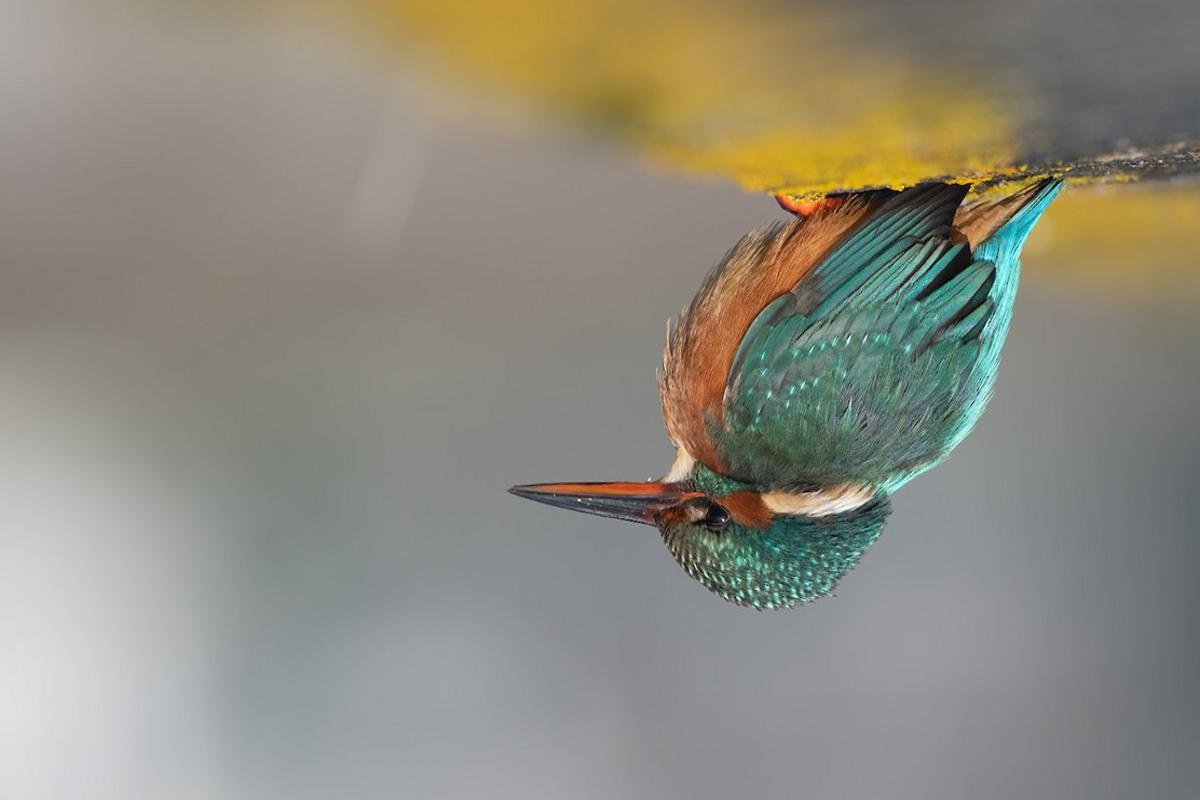kingfisher: (510, 142, 1083, 646)
